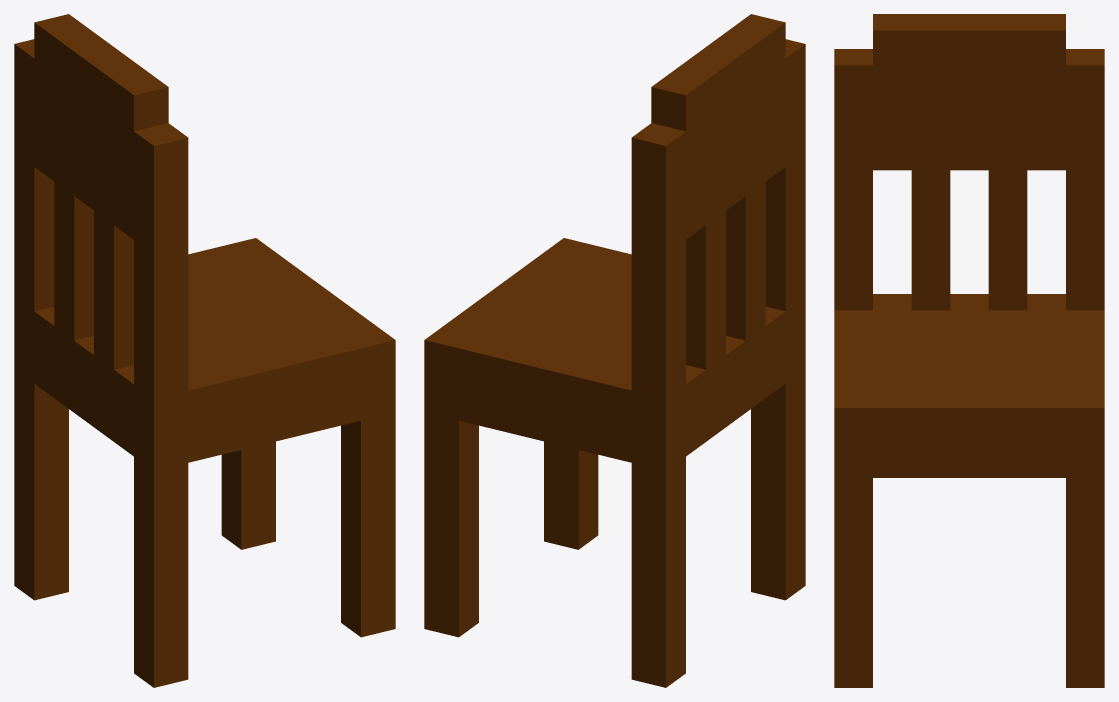
Rendered from Chair01.gltf.
3 views of the same model, side by side, from view 1: azimuth 30°, elevation 25°; view 2: azimuth 150°, elevation 25°; view 3: azimuth 270°, elevation 25° (orthographic). The views are drawn at different scales.
Visible parts, largest first — view 1: Layer.1; view 2: Layer.1; view 3: Layer.1.
Part boxes in pixels (<box>): Layer.1: <box>14,14,395,687</box>; Layer.1: <box>424,14,805,687</box>; Layer.1: <box>834,14,1104,687</box>.
Size of the model in its own units: 7 by 16 by 7.
